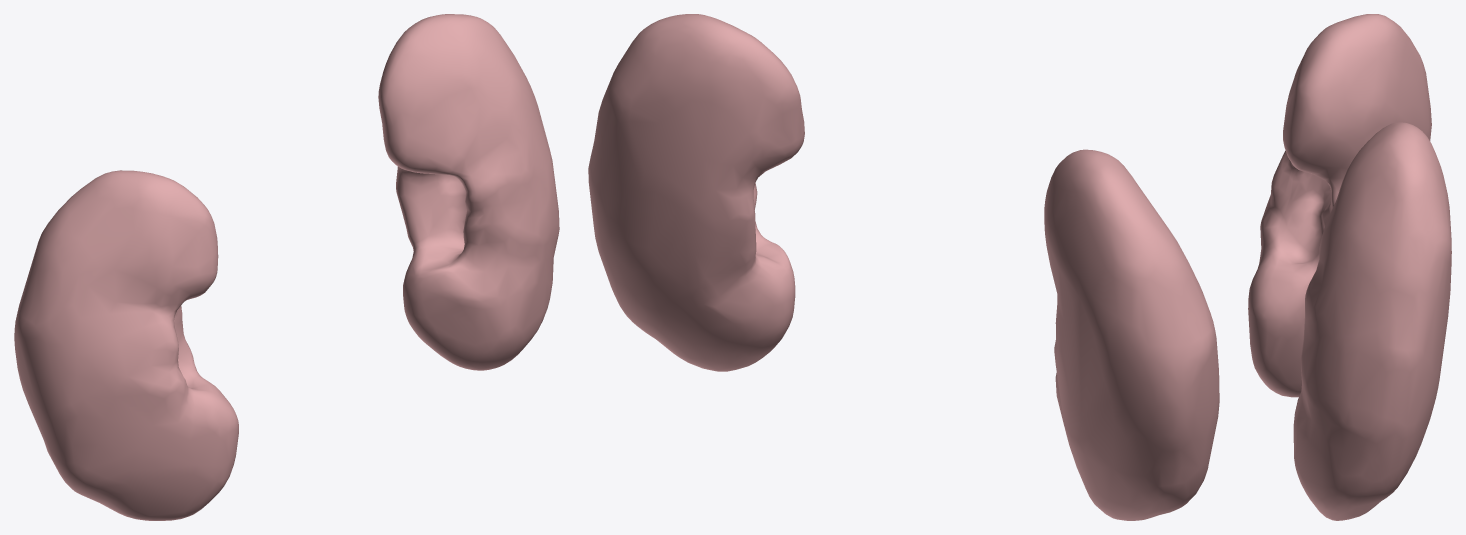
File: kidneys.glb
3 renders of one model, left to right at view 1: azimuth 30°, elevation 25°; view 2: azimuth 150°, elevation 25°; view 3: azimuth 270°, elevation 25°, orthographic. The views are drawn at different scales.
Parts seen in each view (by area): view 1: kidneys; view 2: kidneys; view 3: kidneys.
Part boxes in pixels (<box>): kidneys: <box>14,14,559,520</box>; kidneys: <box>588,14,1219,520</box>; kidneys: <box>1248,14,1451,520</box>.
Size of the model in its own units: 0.1035 by 0.0719 by 0.0304.
